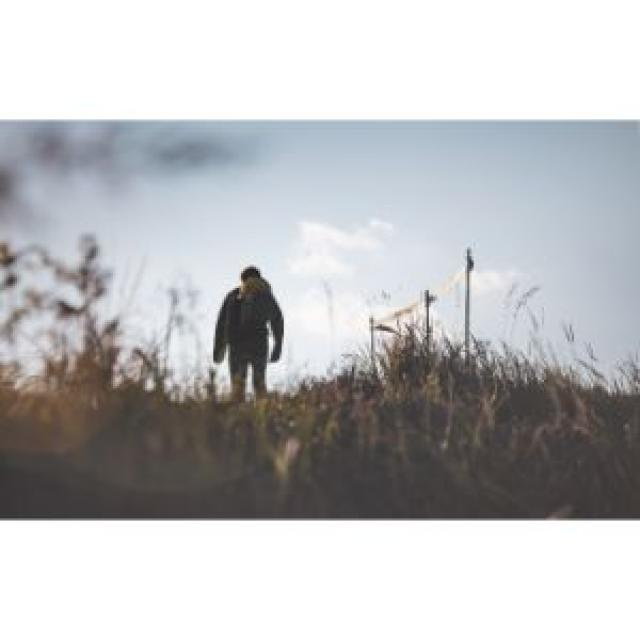nonfall: (204, 245, 289, 395)
